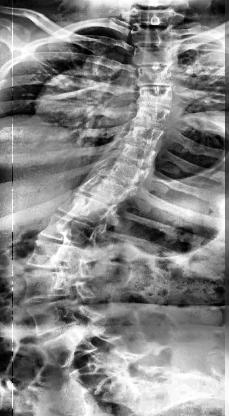Vertebrae: (38, 327, 96, 365), (23, 301, 84, 332), (26, 270, 76, 302), (25, 243, 83, 268), (43, 216, 95, 243), (82, 174, 132, 202), (60, 197, 110, 223), (136, 26, 178, 48), (138, 85, 178, 107), (136, 65, 177, 85), (104, 160, 145, 180), (124, 124, 162, 144), (140, 44, 174, 66), (133, 106, 171, 124), (112, 142, 154, 158)
